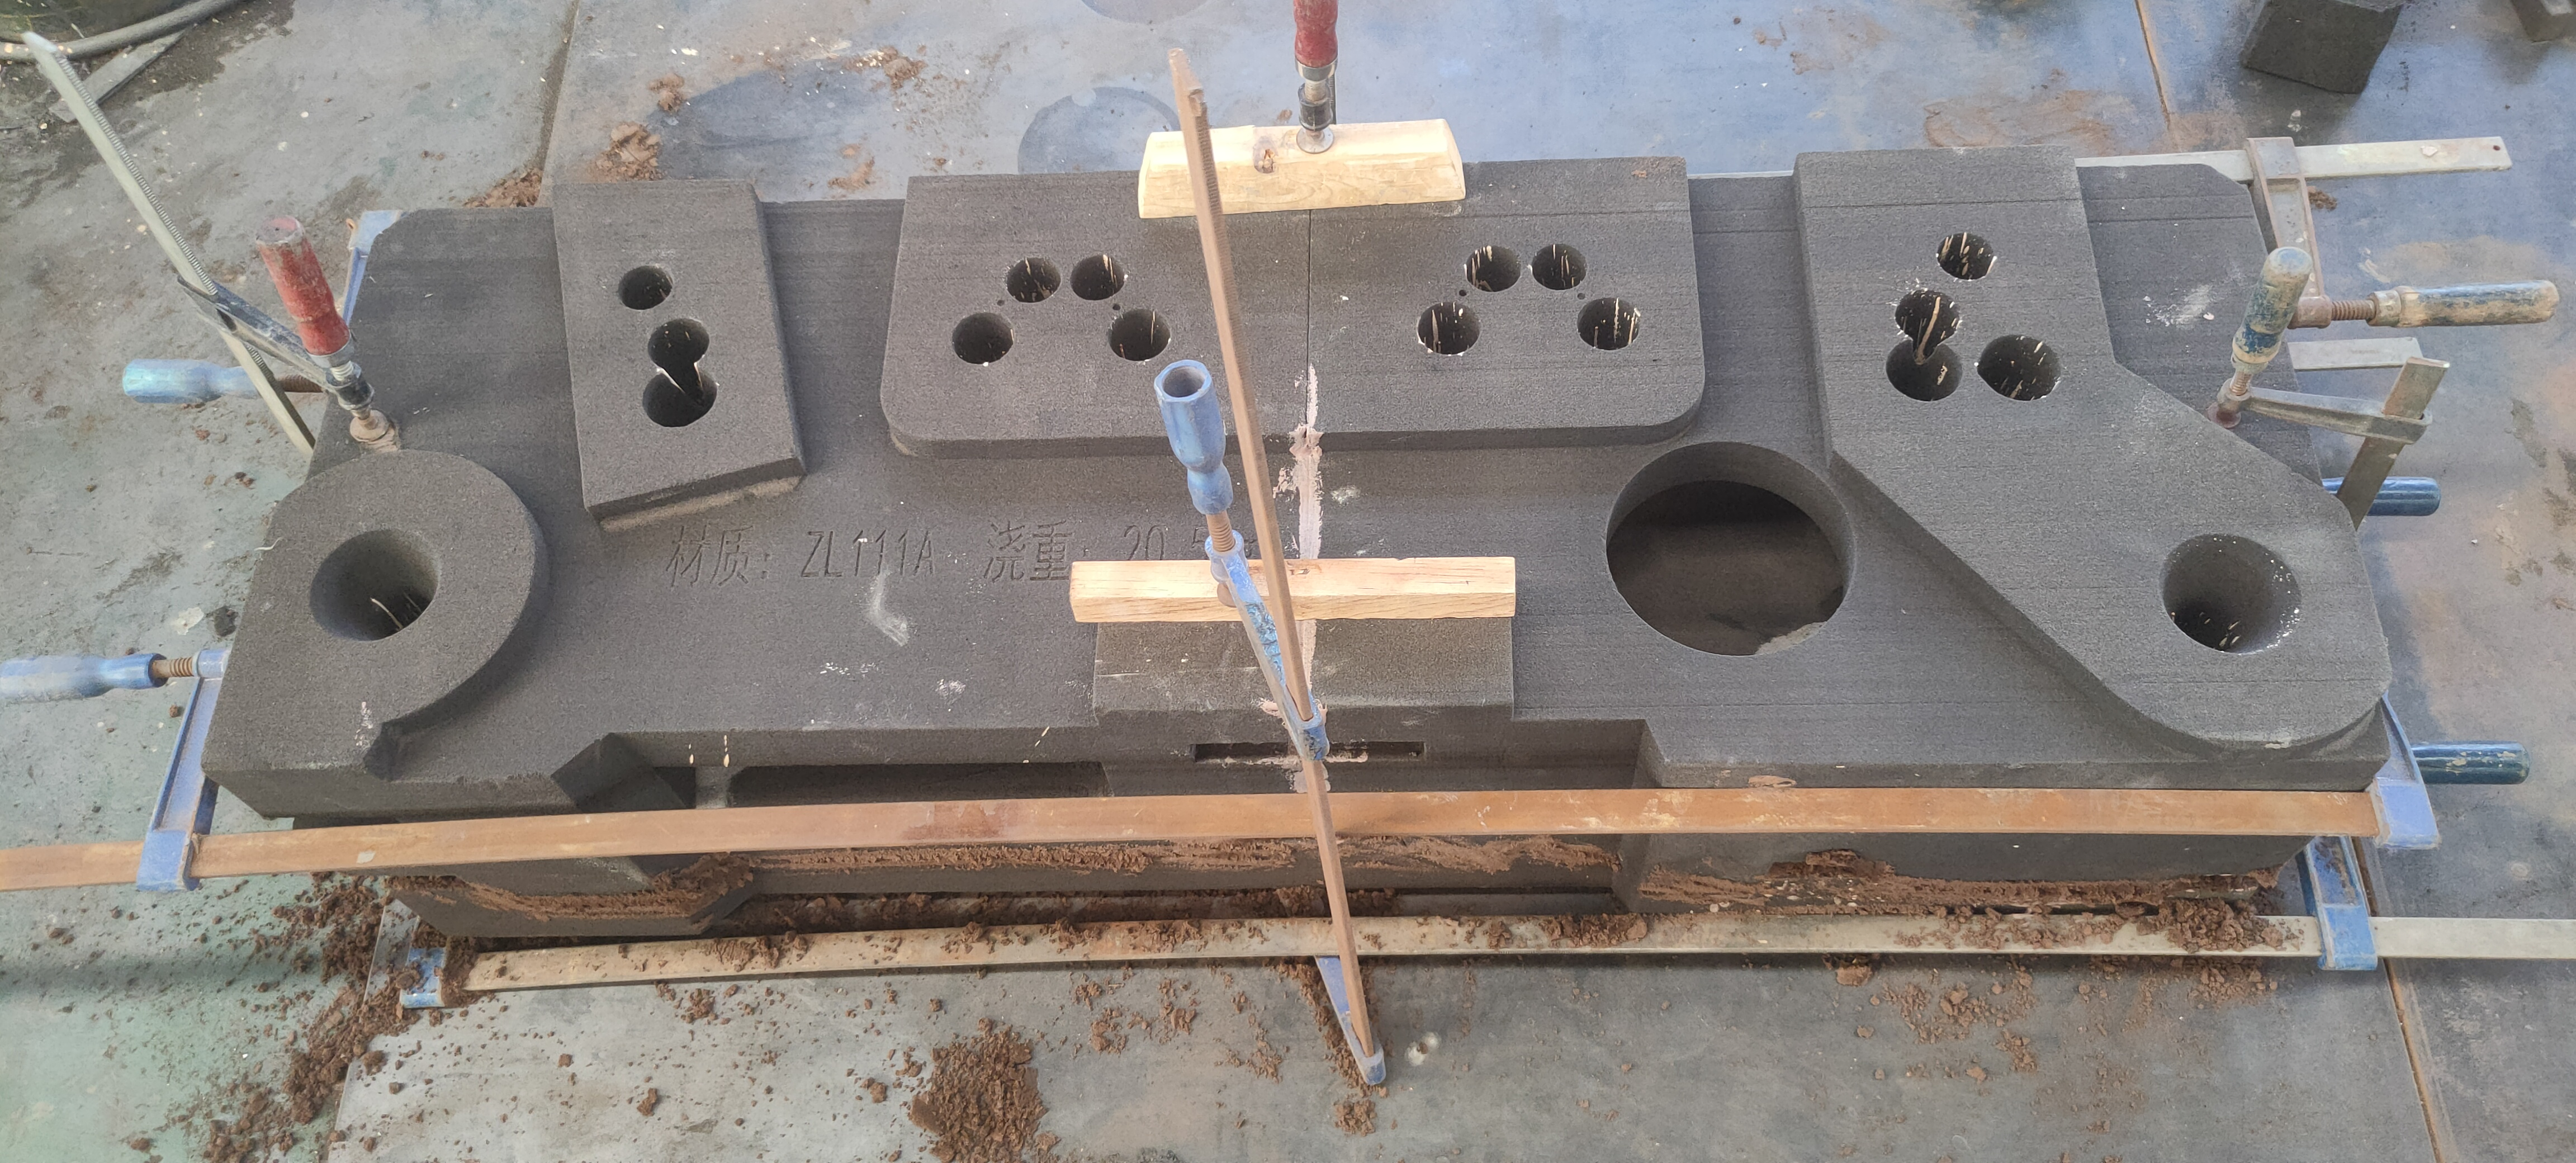pouring hole: (2157, 532, 2302, 654), (307, 527, 442, 642)
